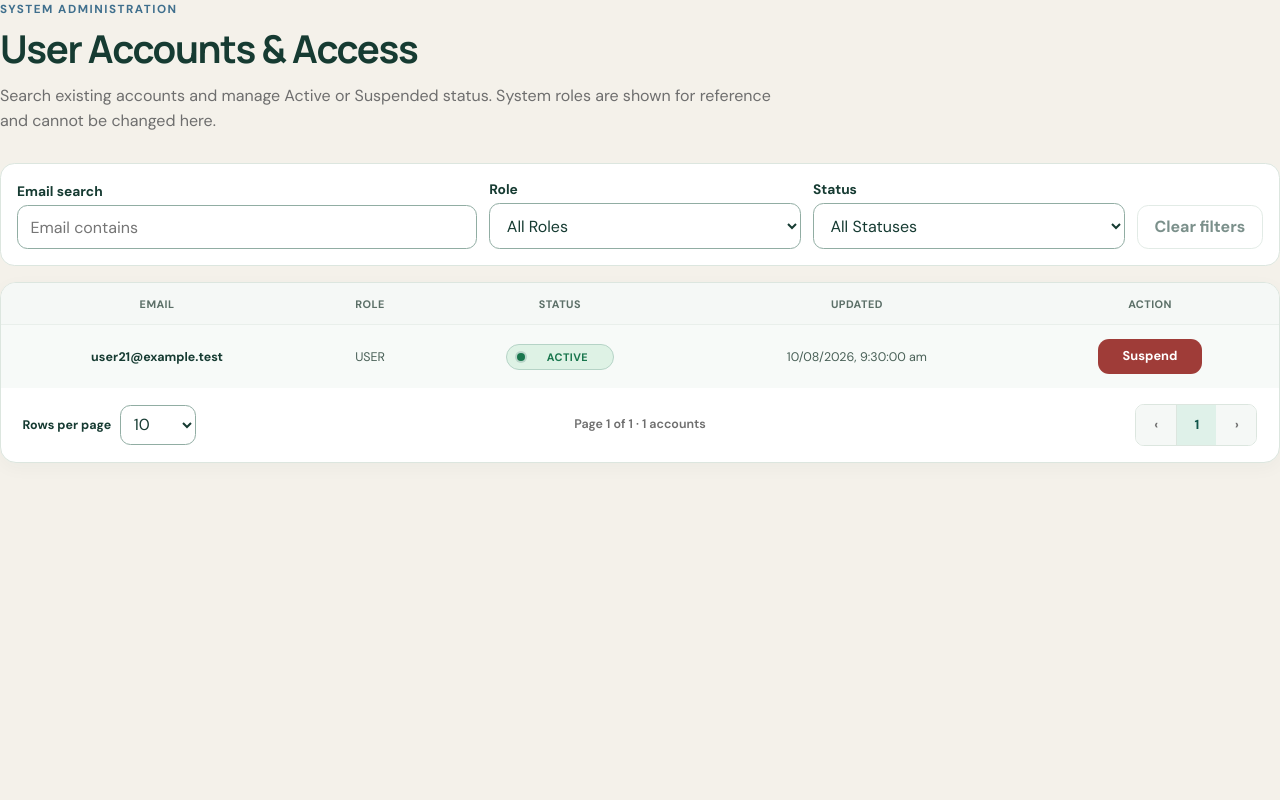
Test: UserAccessPage UC13 account status management › opens the Suspend status modal for an active account
Expected: the column heading "user21@example.test" is shown, [1, 325, 313, 388]
What coordinates should you click on to do the following:
click the button "Suspend"
I would click on:
 (1150, 357)
Its box is [1098, 339, 1202, 374].
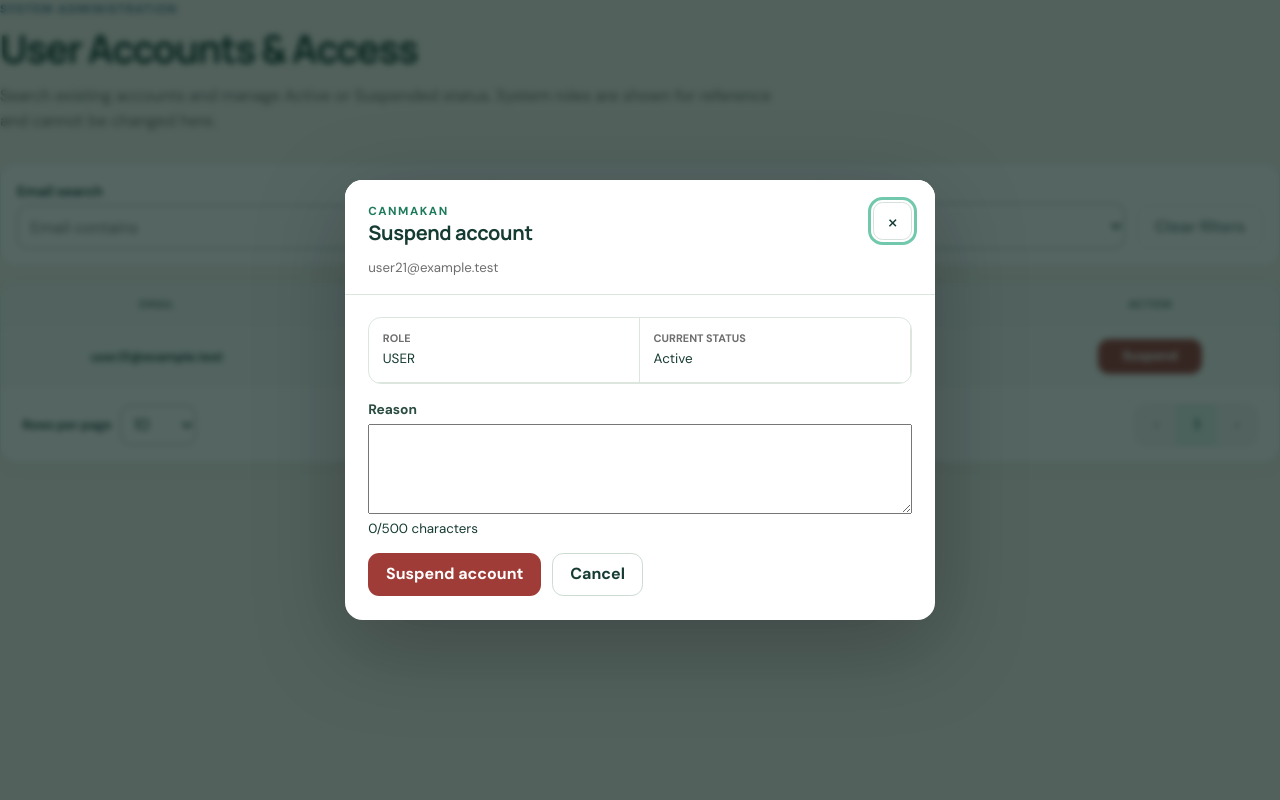
Expected: the heading "Suspend account" is shown, [368, 221, 533, 244]
Expected: the text "user21@example.test" is shown, [368, 259, 498, 276]
